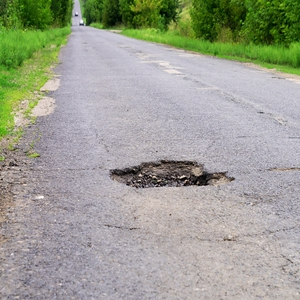pothole: (109, 156, 238, 193)
